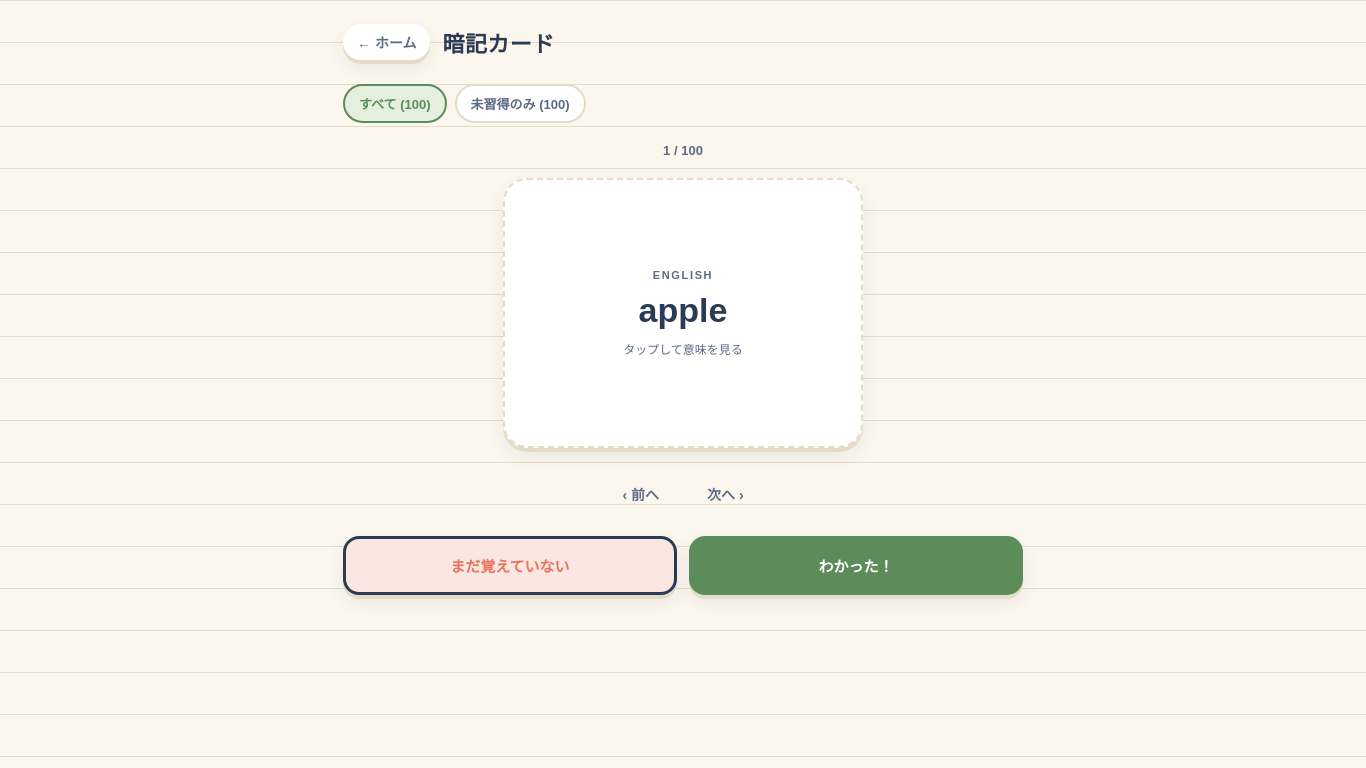
FlashCard › 未習得モードで評価後もカード履歴を保持して変更できる
Step 1. Click the button "未習得のみ (100)" → (520, 104), box [455,84,586,123]
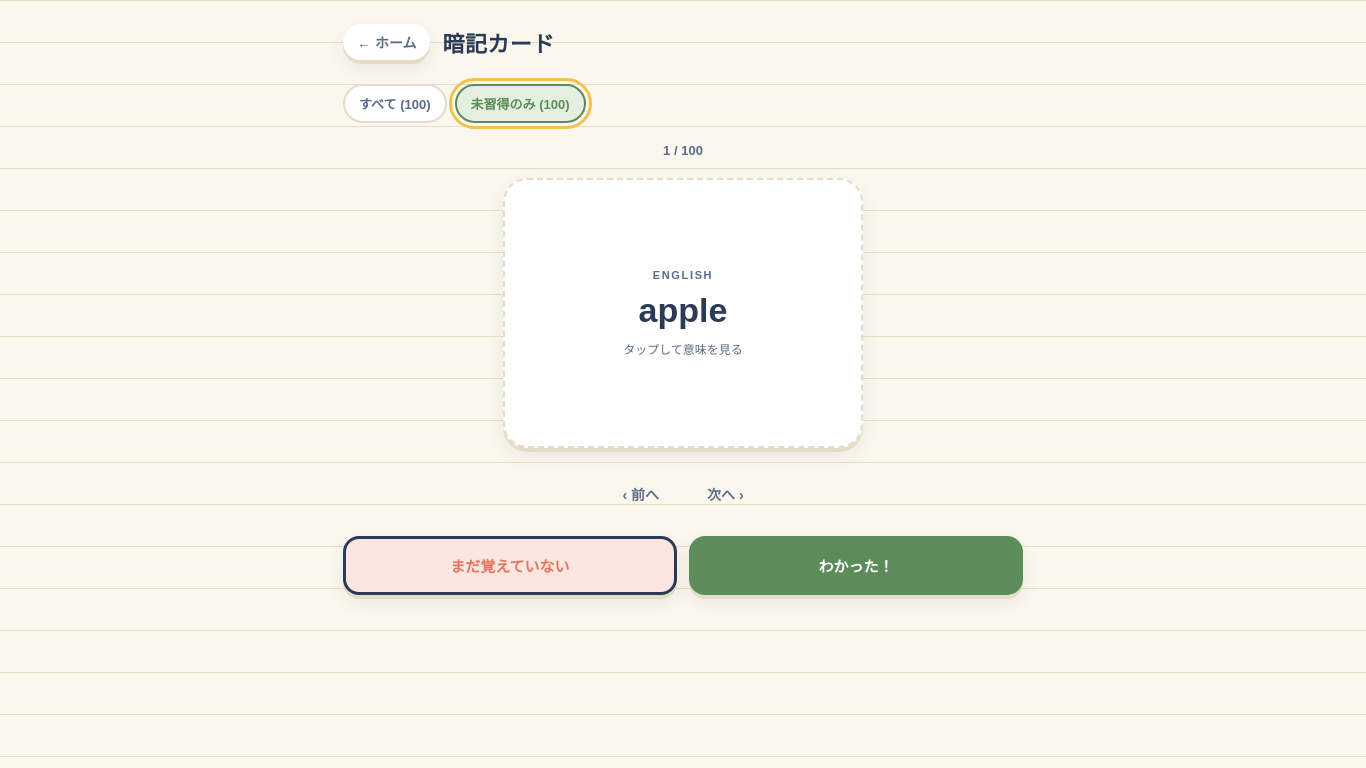
Expected: the text "apple" is shown, [639,291,727,330]
Step 2. Click the button "わかった！" → (856, 566), box [689,536,1023,595]
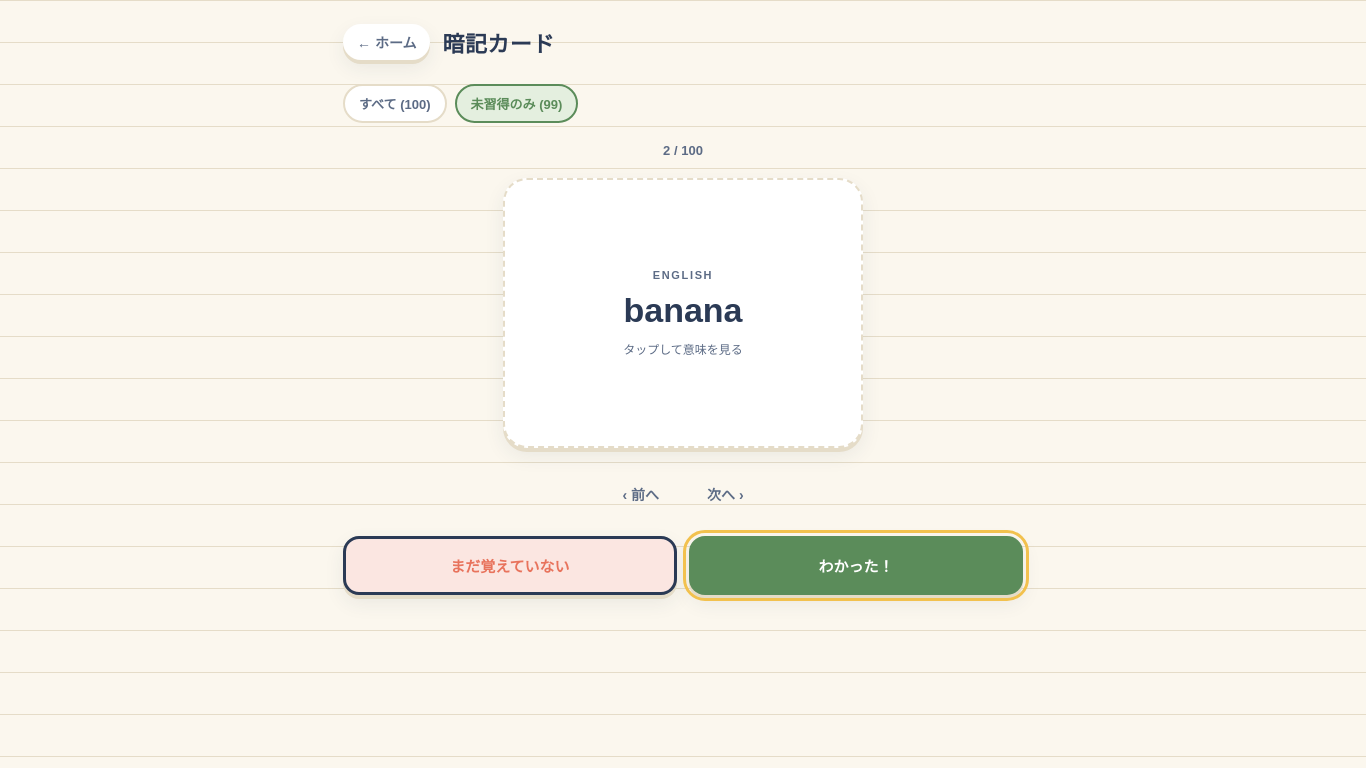
Result: the text "banana" is shown at [624,291,742,330]
Result: the button "未習得のみ (99)" is shown at [455,84,578,123]
Step 3. Click the button with aria-label "前のカード" → (641, 494), box [606,472,675,516]
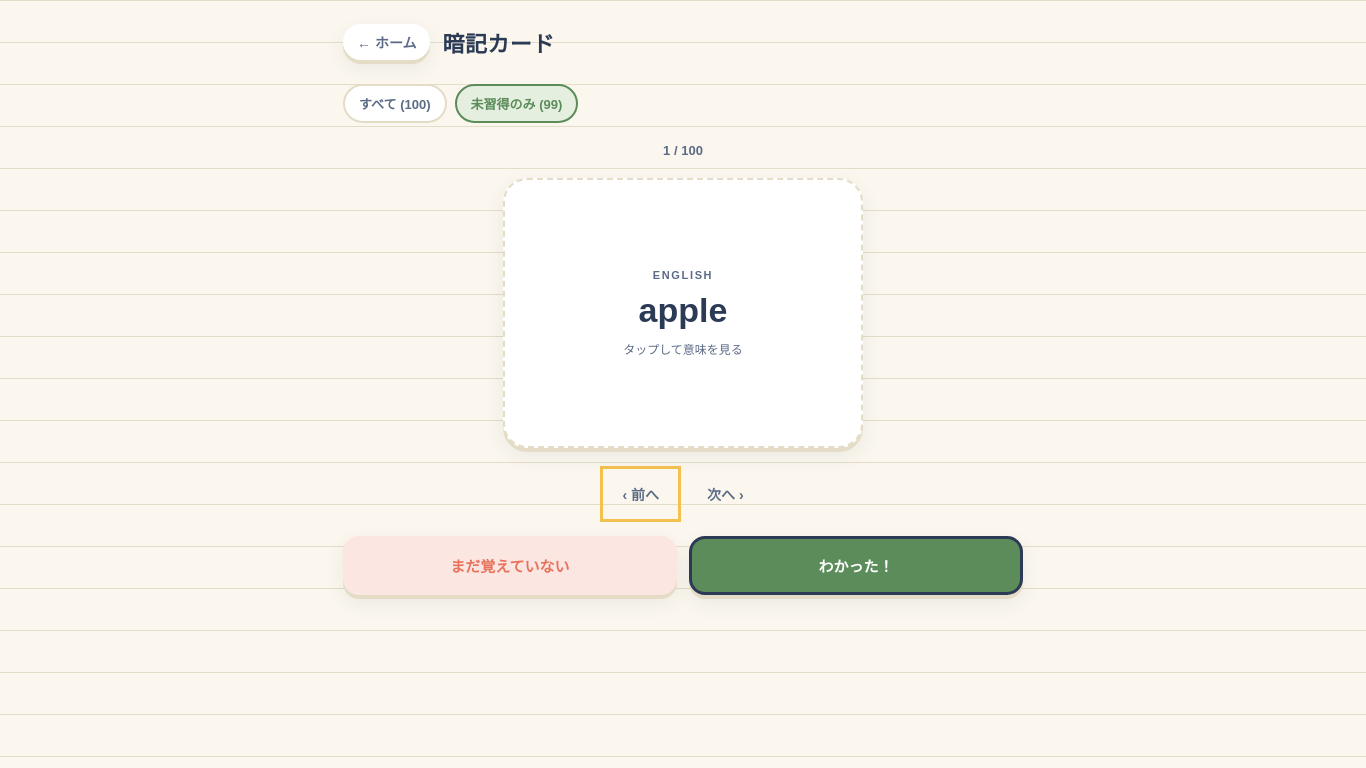
Result: the text "apple" is shown at [639,291,727,330]
Step 4. Click the button "まだ覚えていない" → (510, 566), box [343,536,677,595]
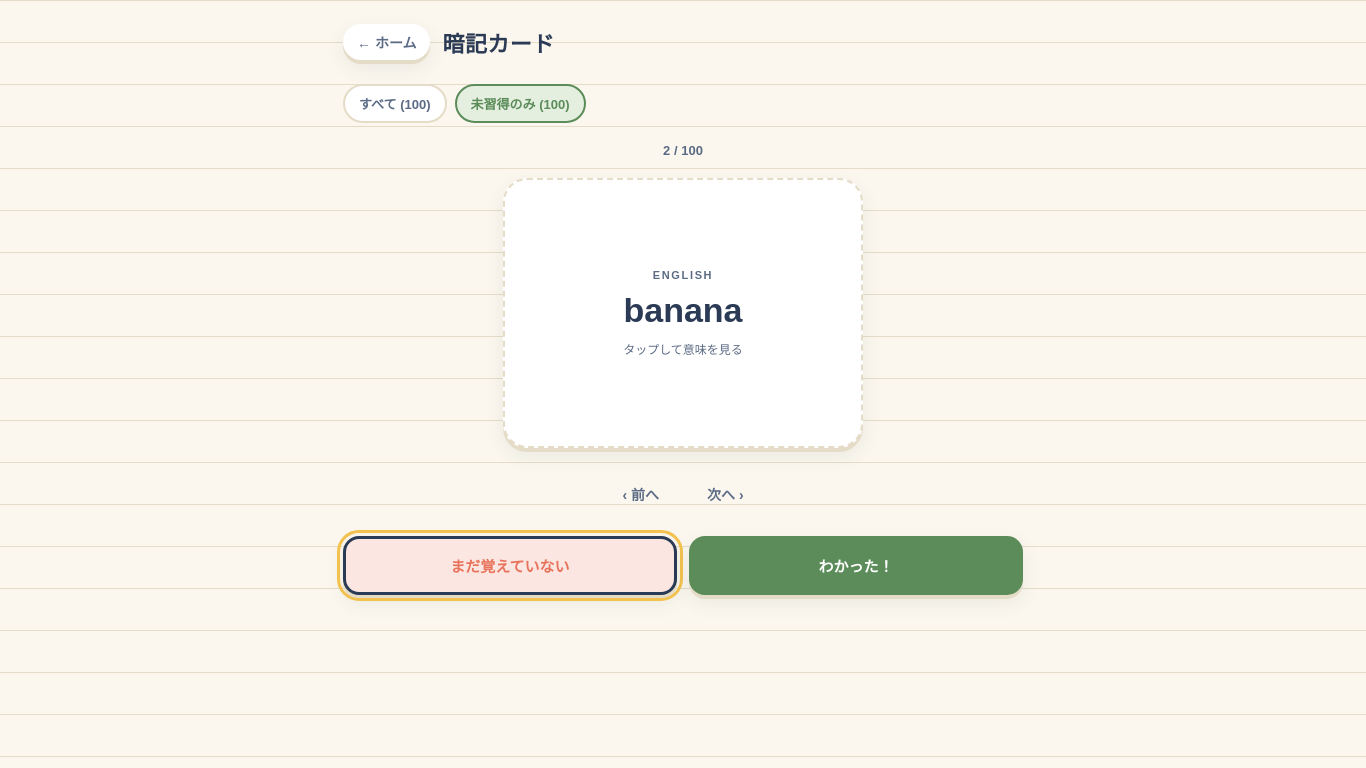
Result: the button "未習得のみ (100)" is shown at [455,84,586,123]
